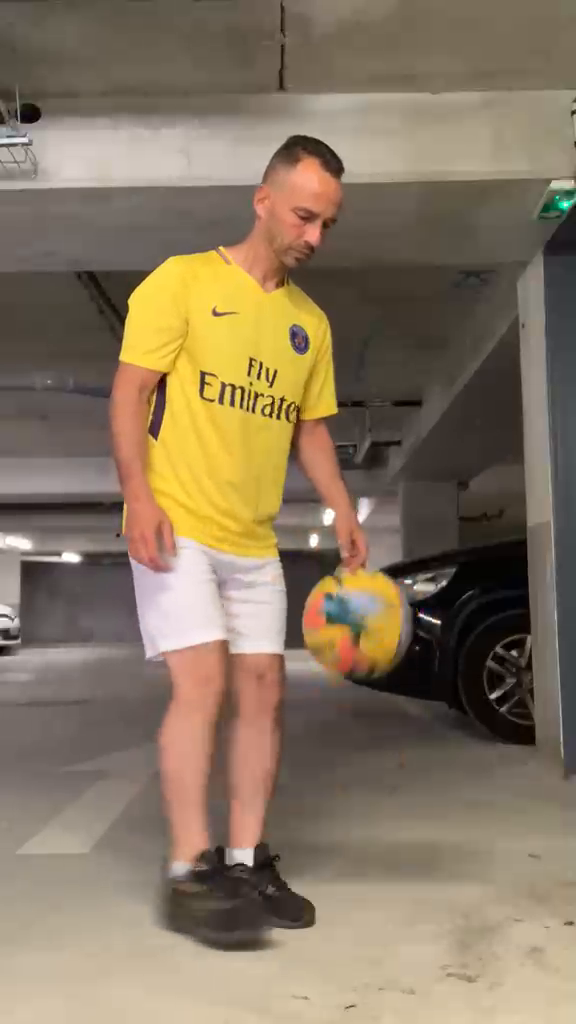ball: (301, 566, 414, 679)
